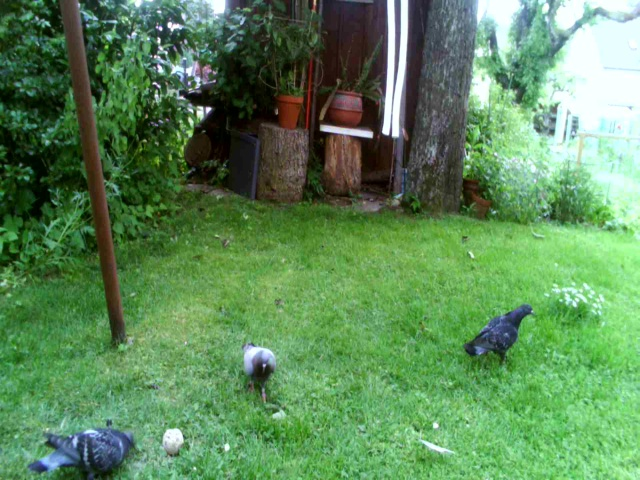Pigeon: (25, 424, 137, 473), (463, 305, 541, 359), (238, 334, 287, 408)
